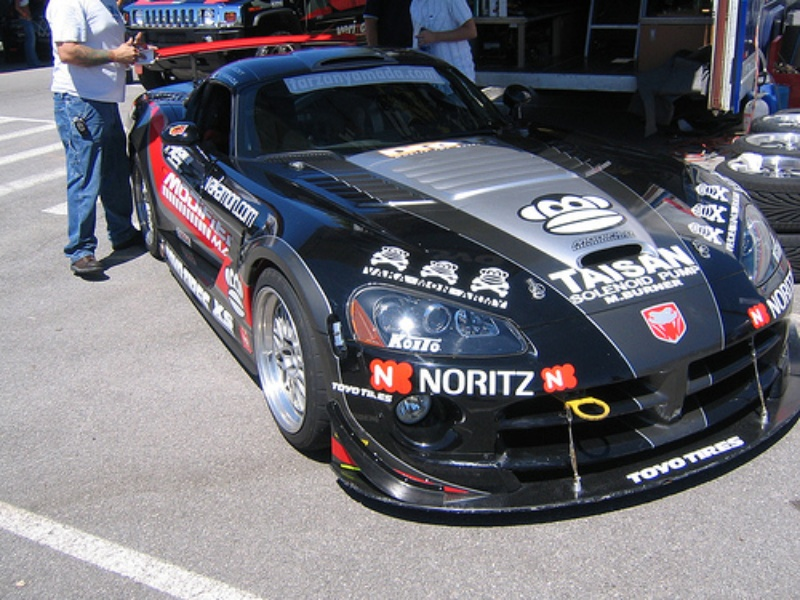car: (125, 36, 800, 522), (118, 1, 363, 43)
person: (43, 1, 158, 277), (408, 1, 477, 87)
